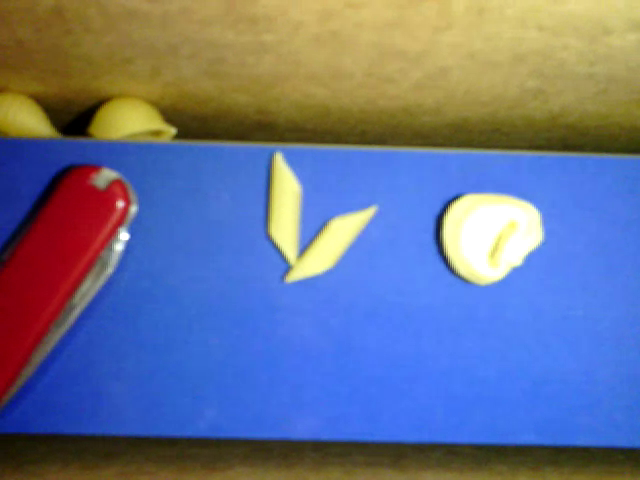penne: (284, 202, 380, 283), (263, 149, 299, 266)
shell: (87, 92, 180, 143), (1, 89, 71, 143)
tortellini: (439, 191, 545, 282)
